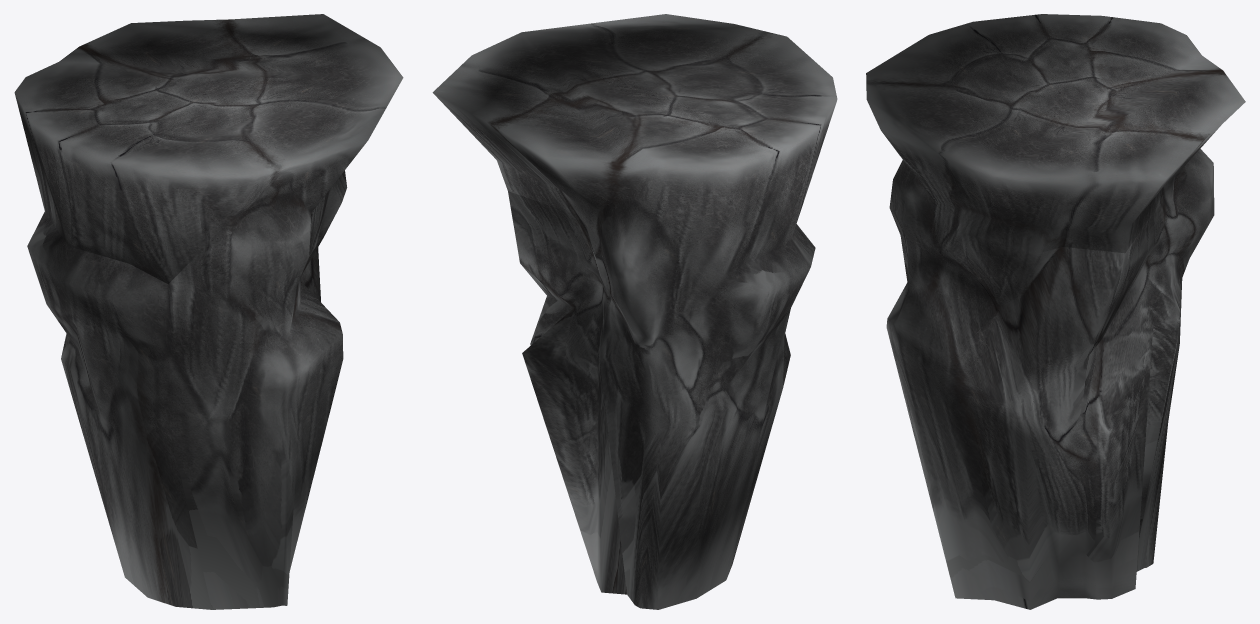
Rendered from needle2.fbx.
The picture shows the model from 3 angles, left to right: view 1: azimuth 30°, elevation 25°; view 2: azimuth 150°, elevation 25°; view 3: azimuth 270°, elevation 25°; orthographic projection. The views are drawn at different scales.
Parts seen in each view (by area): view 1: rock2; view 2: rock2; view 3: rock2.
Boxes of the visible parts, box(x1,y1,x2,y2) form: rock2: box(14, 14, 403, 609); rock2: box(432, 14, 837, 609); rock2: box(866, 14, 1245, 609).
Bounding box in the file's own units: 1358 × 1843 × 1294.
